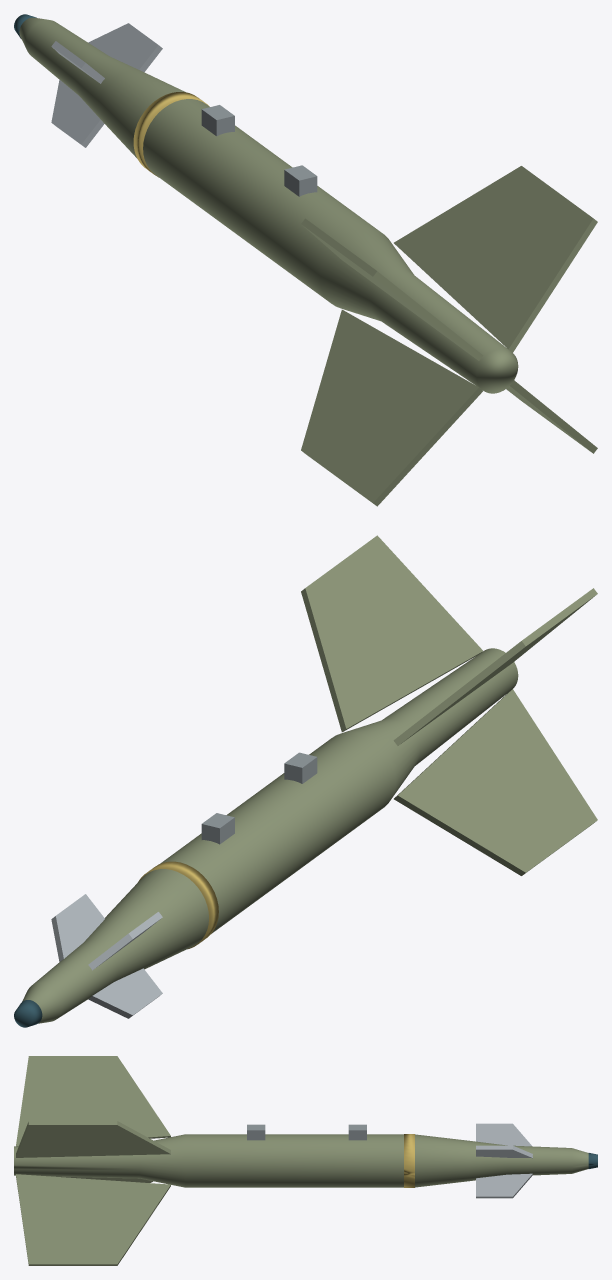
Rendered from gbu12.glb.
The picture shows the model from 3 angles, top to bottom: view 1: azimuth 30°, elevation 25°; view 2: azimuth 150°, elevation 25°; view 3: azimuth 270°, elevation 25°; orthographic projection. The views are drawn at different scales.
Visible parts, largest first — view 1: static.Store olive, static.Airframe grey, static.Dull metal, static.Store band ochre; view 2: static.Store olive, static.Airframe grey, static.Dull metal, static.Store band ochre; view 3: static.Store olive, static.Airframe grey, static.Dull metal, static.Store band ochre.
Part boxes in pixels (x1,y1,x2,y2): static.Store olive: (19, 17, 597, 506); static.Airframe grey: (51, 23, 162, 147); static.Dull metal: (201, 105, 317, 196); static.Store band ochre: (133, 92, 209, 177); static.Store olive: (22, 535, 597, 1023); static.Airframe grey: (51, 894, 162, 1018); static.Dull metal: (201, 752, 317, 844); static.Store band ochre: (138, 861, 218, 949); static.Store olive: (14, 1056, 588, 1265); static.Airframe grey: (476, 1123, 532, 1198); static.Dull metal: (247, 1124, 366, 1140); static.Store band ochre: (404, 1134, 414, 1187).
Size of the model in its own units: 0.8655 by 0.8655 by 3.16.
